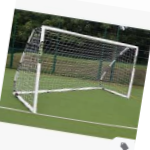goals: (13, 24, 140, 117)
